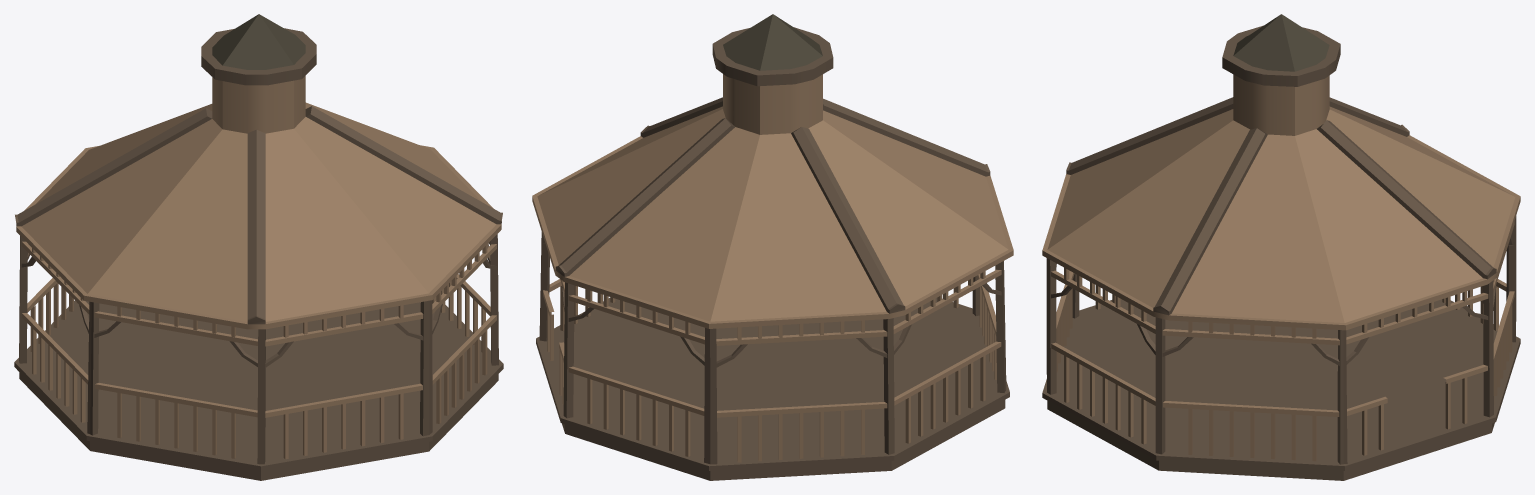
The picture shows the model from 3 angles, left to right: view 1: azimuth 30°, elevation 25°; view 2: azimuth 150°, elevation 25°; view 3: azimuth 270°, elevation 25°; orthographic projection.
Visible parts, largest first — view 1: SM_Gazebo:SM_Gazebo1; view 2: SM_Gazebo:SM_Gazebo1; view 3: SM_Gazebo:SM_Gazebo1.
Boxes of the visible parts, x1,y1,x2,y2 form: SM_Gazebo:SM_Gazebo1: (14, 14, 503, 480); SM_Gazebo:SM_Gazebo1: (532, 14, 1013, 480); SM_Gazebo:SM_Gazebo1: (1042, 14, 1520, 480).
Bounding box in the file's own units: 10.4 × 8.77 × 10.31.
